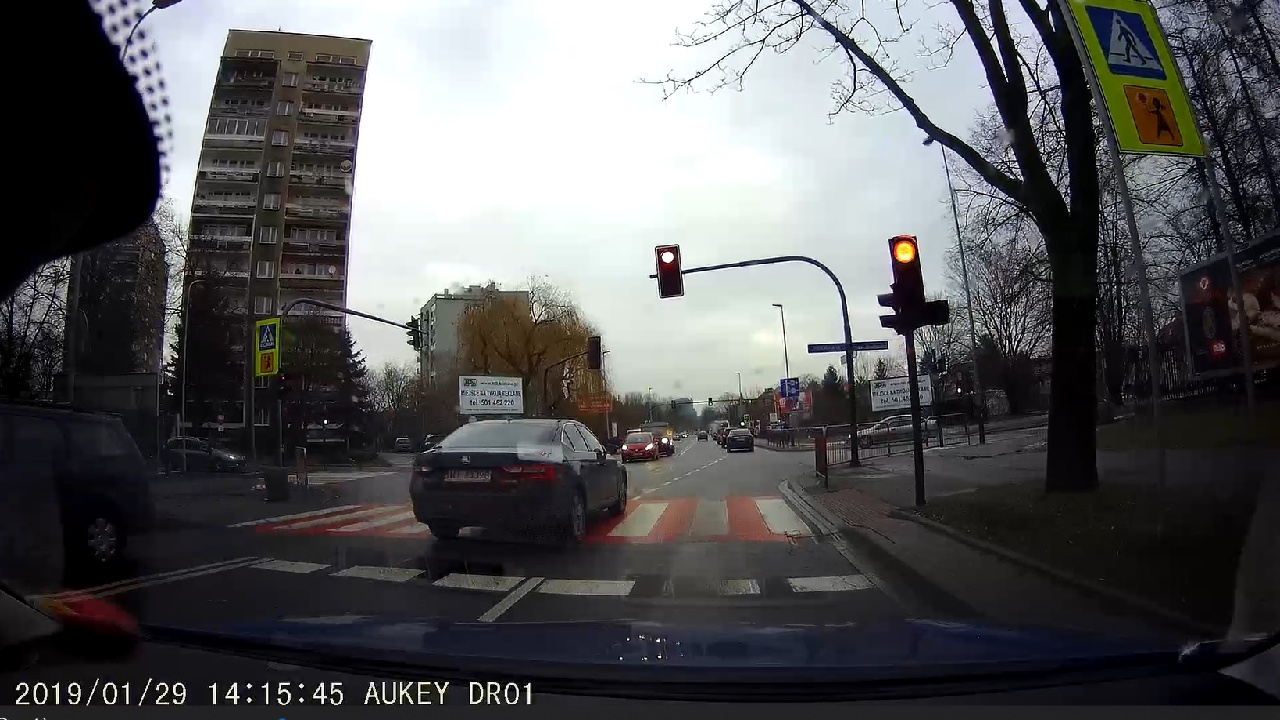D6: (1084, 6, 1174, 84)
